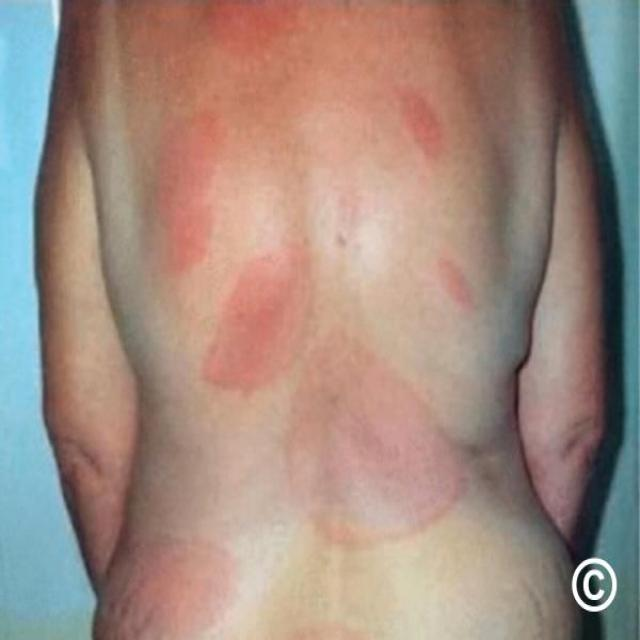Erythema migrans: (294, 320, 468, 605), (139, 120, 215, 290), (396, 83, 462, 203)
